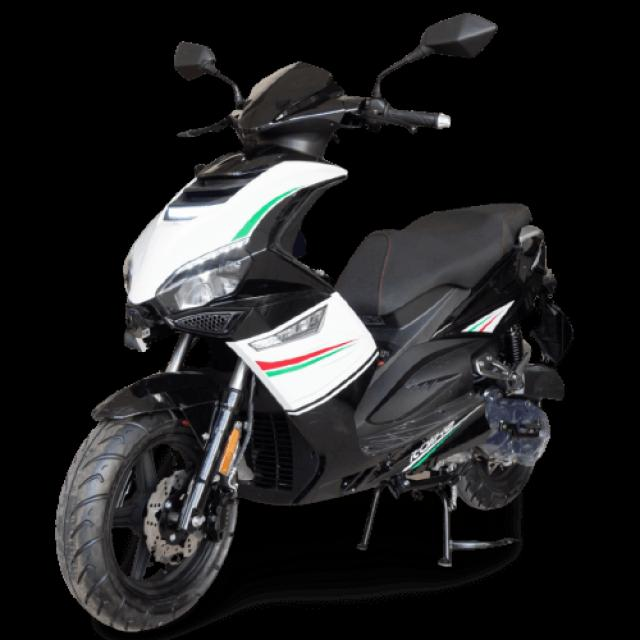Motorcycle: (55, 63, 573, 634)
